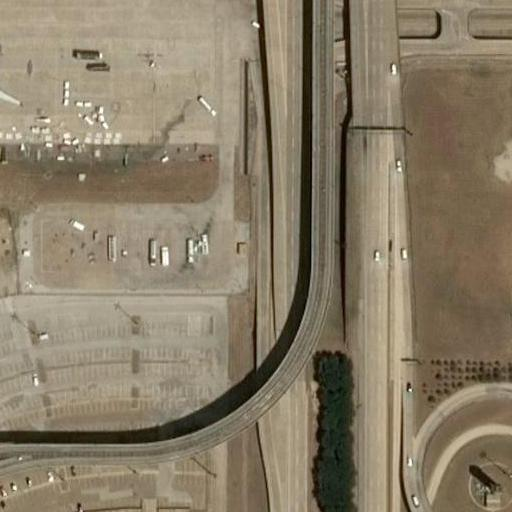Aircraft: (0, 52, 18, 134)
